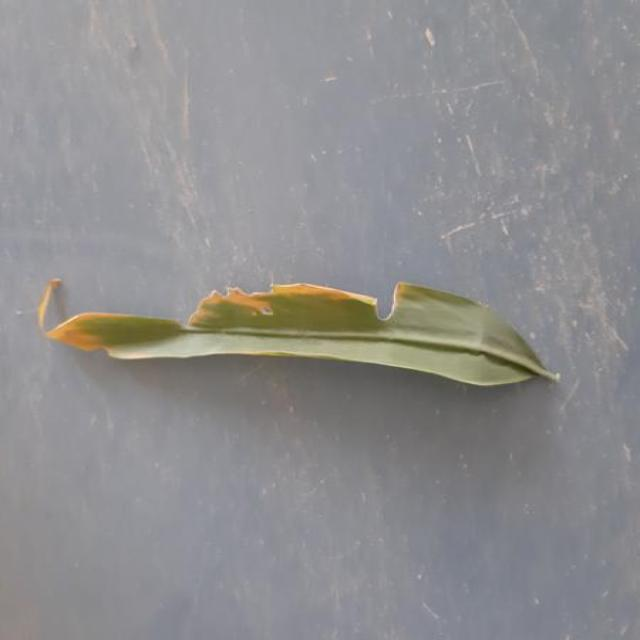bacterial wilt: (45, 282, 558, 386)
ginger: (38, 278, 558, 386)
